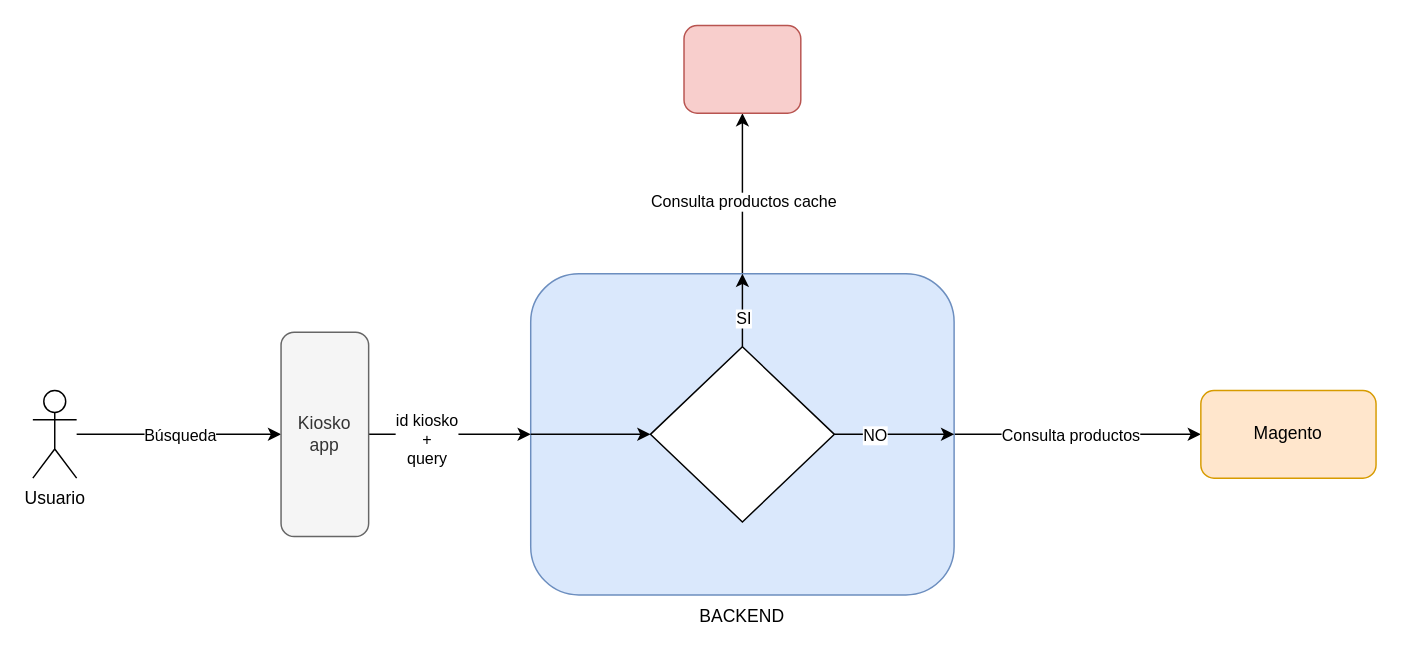
The diagram is 1402 pixels wide and 664 high, and some of its shapes have lost their labels. The shapes that lost their labels are listed below. From the top down, each one's box as (x1, y1, x2, y2) in pixels, then its label:
(683, 24, 801, 113): Redis
(649, 345, 834, 522): ¿Fue consultado recientemente?
